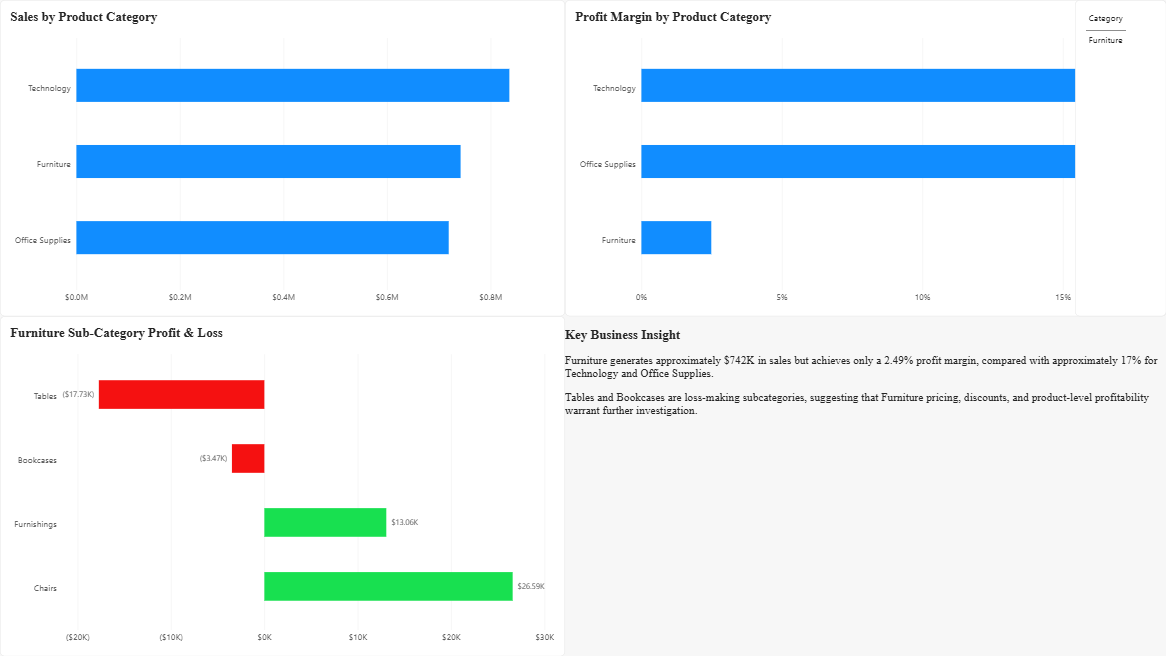

This screenshot's page, from the dashboard's own definition file:
{"tool":"powerbi","page":{"name":"Product & Category Performance","canvas":[1920,1080],"ordinal":1},"visuals":[{"type":"clusteredBarChart","title":"Sales by Product Category","fields":{"Category":["Orders.Category"],"Y":["Orders.Total Sales"]},"box":[0,0,930.4,520.8],"z":0},{"type":"clusteredBarChart","title":"Profit Margin by Product Category","fields":{"Category":["Orders.Category"],"Y":["Orders.Profit Margin"]},"box":[930.4,0,990.1,520.8],"z":1},{"type":"clusteredBarChart","title":"Furniture Sub-Category Profit & Loss","fields":{"Category":["Orders.Sub-Category"],"Y":["Orders.Total Profit"]},"box":[0,520.8,930.4,559.9],"z":2},{"type":"tableEx","fields":{"Values":["Orders.Category"]},"box":[1770,0,150,520.8],"z":3},{"type":"textbox","box":[930,521,990,559],"z":4}]}

Visuals, with their boxes in screenshot pixels (x1, y1, x2, y2), scaled from the page's 1920x1080 canvas onto the 1166x656 screenshot:
"Sales by Product Category" clusteredBarChart: left=0, top=0, right=565, bottom=316
"Profit Margin by Product Category" clusteredBarChart: left=565, top=0, right=1165, bottom=316
"Furniture Sub-Category Profit & Loss" clusteredBarChart: left=0, top=316, right=565, bottom=655
tableEx - Orders.Category: left=1075, top=0, right=1165, bottom=316
textbox: left=565, top=316, right=1165, bottom=655
